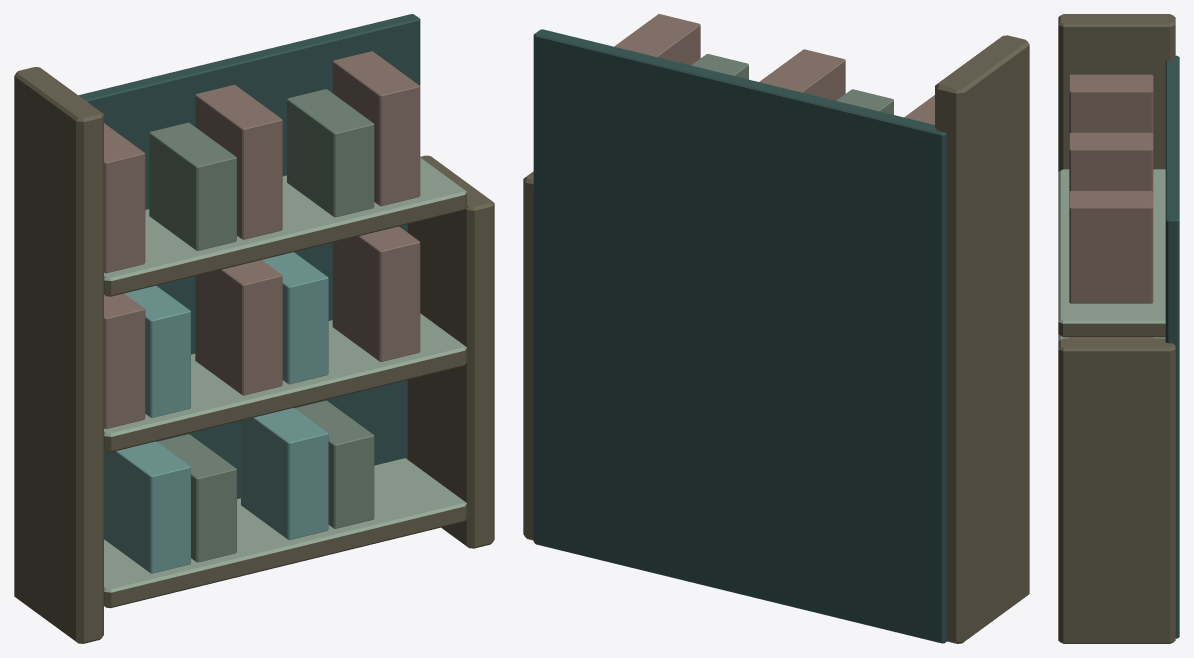
Rendered from bookcase-broken.glb.
3 renders of one model, left to right at view 1: azimuth 30°, elevation 25°; view 2: azimuth 150°, elevation 25°; view 3: azimuth 270°, elevation 25°, orthographic. The views are drawn at different scales.
Parts seen in each view (by area): view 1: bookcase-broken__body; view 2: bookcase-broken__body; view 3: bookcase-broken__body.
Part boxes in pixels (box(x1,y1,x2,y2)): bookcase-broken__body: box(14, 14, 494, 643); bookcase-broken__body: box(523, 14, 1029, 643); bookcase-broken__body: box(1058, 14, 1179, 643).
Bounding box in the file's own units: 1.5 × 1.8 × 0.435.
